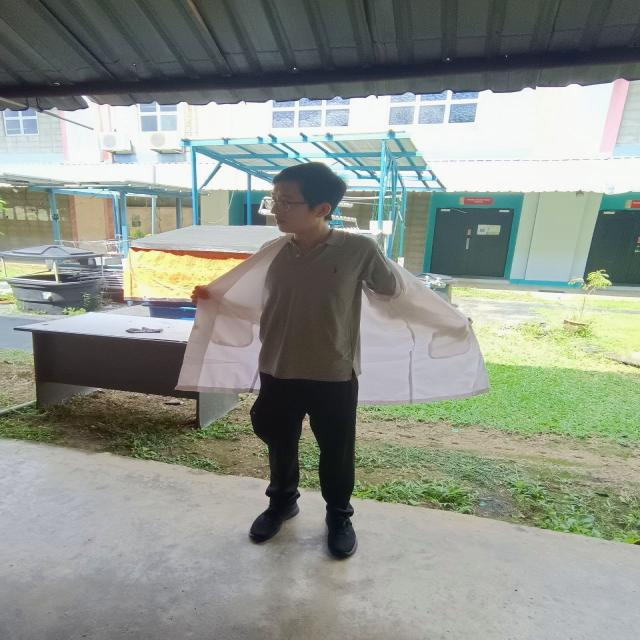person_without_labcoat: (179, 162, 486, 556)
